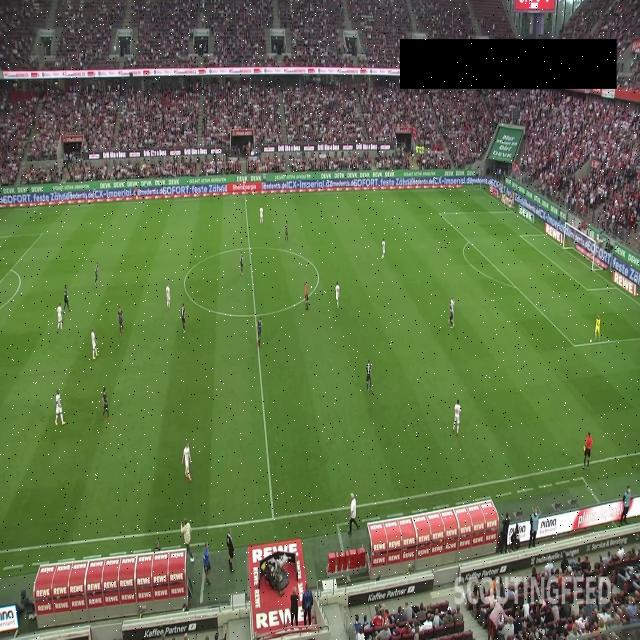Ball: (590, 338, 592, 345)
GoalKeeper: (594, 312, 602, 343)
Referee: (584, 430, 594, 470), (304, 282, 310, 312), (134, 185, 139, 202)
TEAM 1: (102, 387, 111, 421), (62, 284, 70, 314), (366, 358, 373, 392), (180, 302, 187, 335), (256, 316, 263, 348), (117, 306, 124, 336), (94, 261, 100, 286), (449, 305, 454, 331), (284, 221, 290, 240), (240, 249, 244, 276)
TEAM 2: (182, 440, 192, 483), (55, 389, 66, 427), (453, 399, 462, 436), (90, 327, 99, 360), (56, 302, 64, 330), (449, 296, 456, 323), (166, 282, 171, 308), (335, 282, 340, 308), (381, 236, 385, 259), (260, 204, 264, 225)
